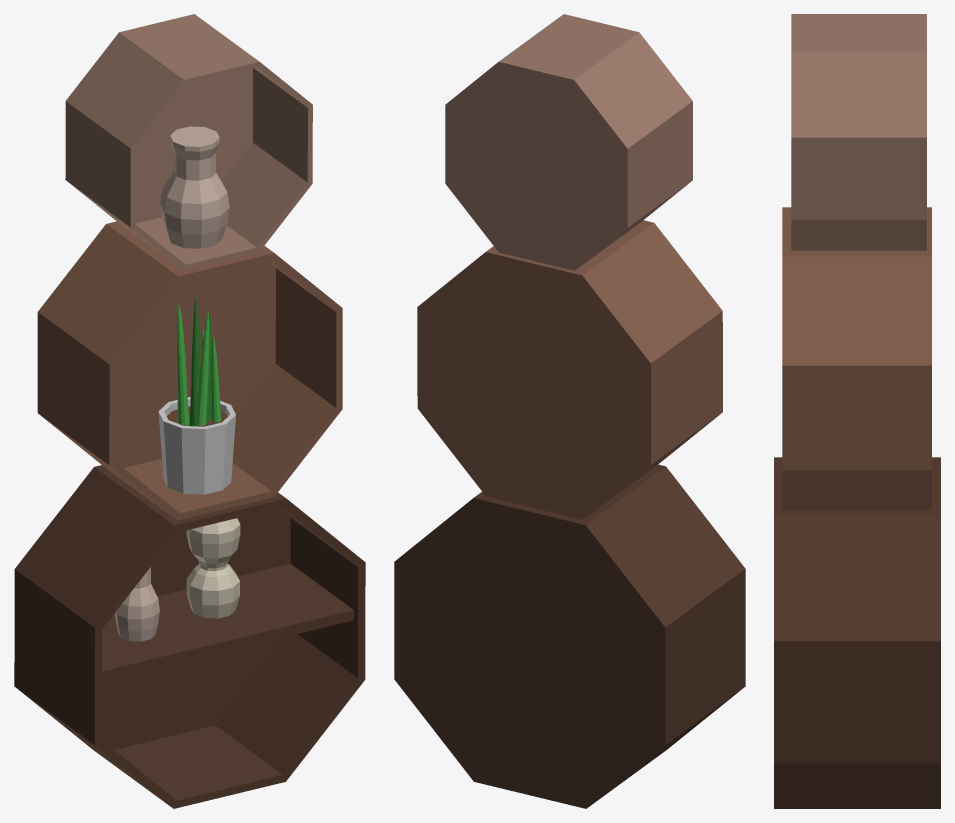
Rendered from cabinet_02_0517.fbx.
3 renders of one model, left to right at view 1: azimuth 30°, elevation 25°; view 2: azimuth 150°, elevation 25°; view 3: azimuth 270°, elevation 25°, orthographic. The views are drawn at different scales.
Parts seen in each view (by area): view 1: Cylinder001; view 2: Cylinder001; view 3: Cylinder001.
Part boxes in pixels (x1,y1,x2,y2): Cylinder001: (14,14,365,808); Cylinder001: (394,14,745,808); Cylinder001: (774,14,940,808).
Size of the model in its own units: 84.38 by 214 by 43.27.
Materials: 1 (1 with a texture image).
